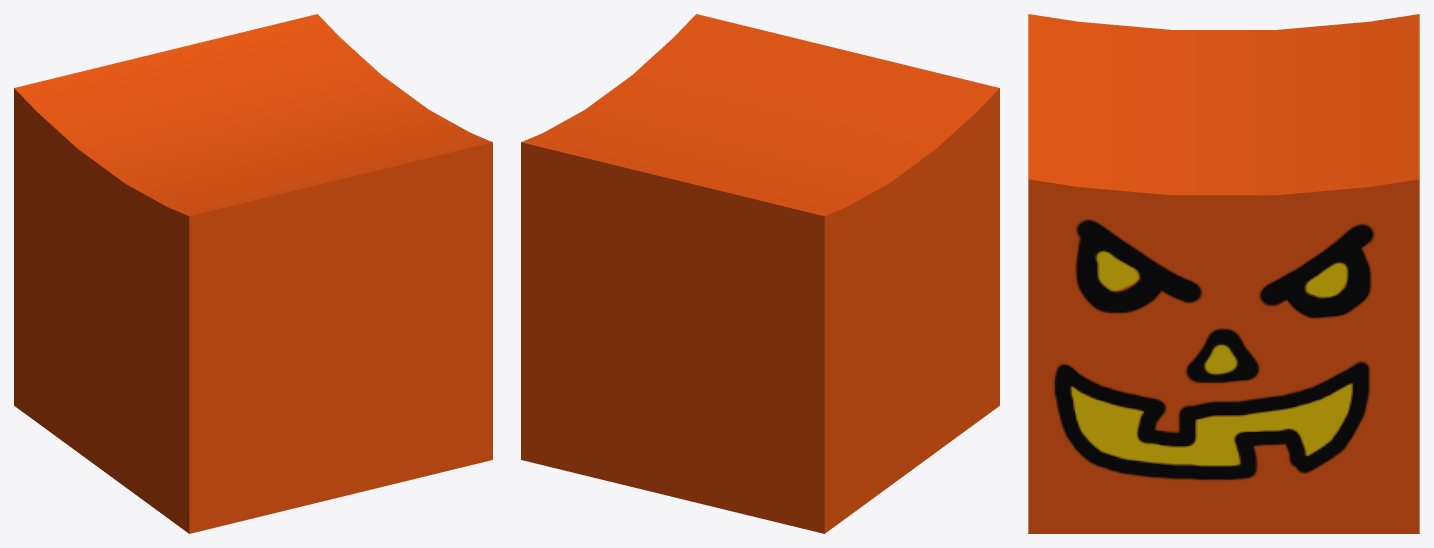
File: pumpkin.fbx
3 renders of one model, left to right at view 1: azimuth 30°, elevation 25°; view 2: azimuth 150°, elevation 25°; view 3: azimuth 270°, elevation 25°, orthographic. The views are drawn at different scales.
Parts seen in each view (by area): view 1: Cube; view 2: Cube; view 3: Cube.
Part boxes in pixels (x1,y1,x2,y2): Cube: (14,14,492,533); Cube: (521,14,999,533); Cube: (1028,14,1419,533).
Bounding box in the file's own units: 200 × 200 × 200.
